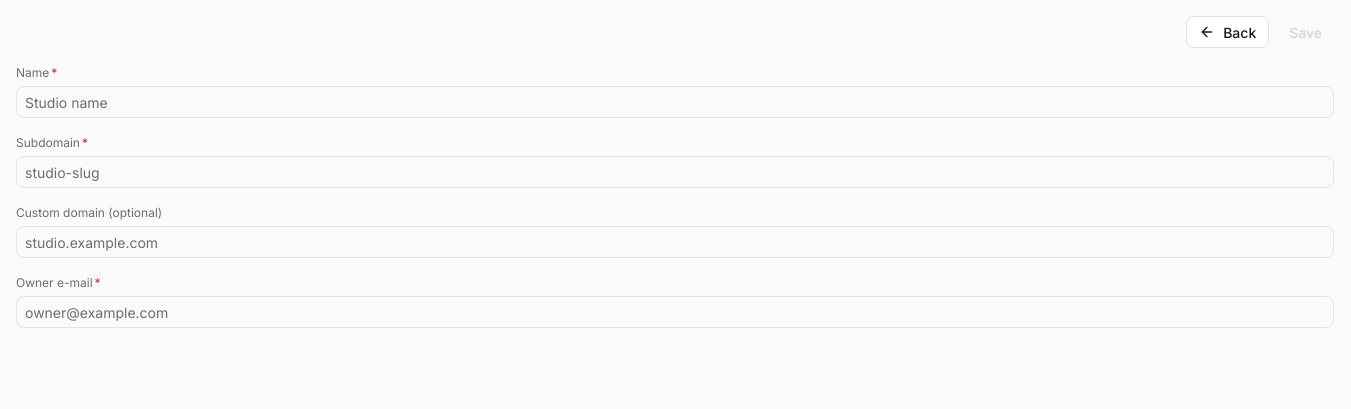
Test: StudioForm: new studio › does not save and shows the texts when the formats are wrong
The width and height of the screenshot is (1351, 409).
Type "Y" into the field labelled "Name*". click: (675, 102)
box: top-left (16, 86), bottom-right (1334, 118)
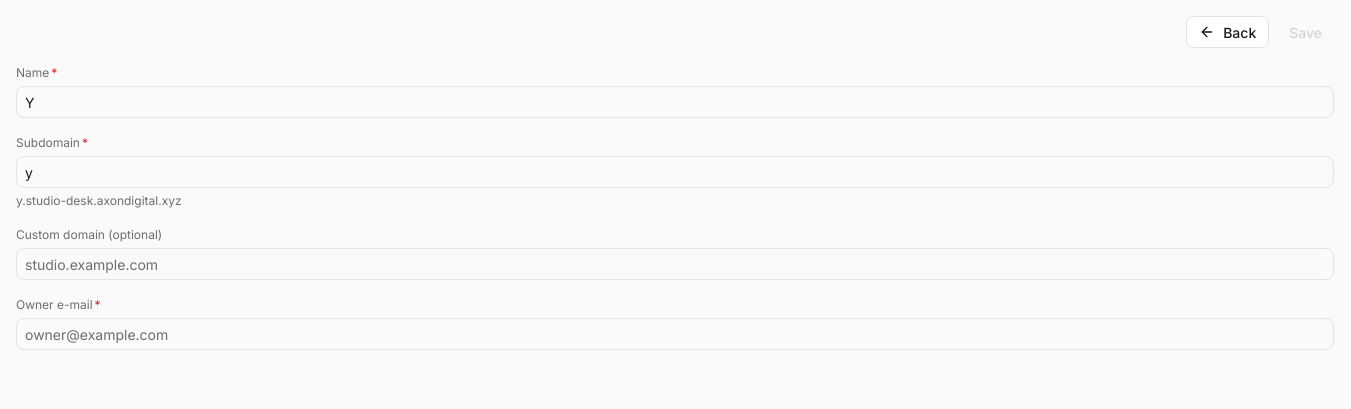
Type "nope" into the field labelled "Owner e-mail*". click: (675, 334)
box: top-left (16, 318), bottom-right (1334, 350)
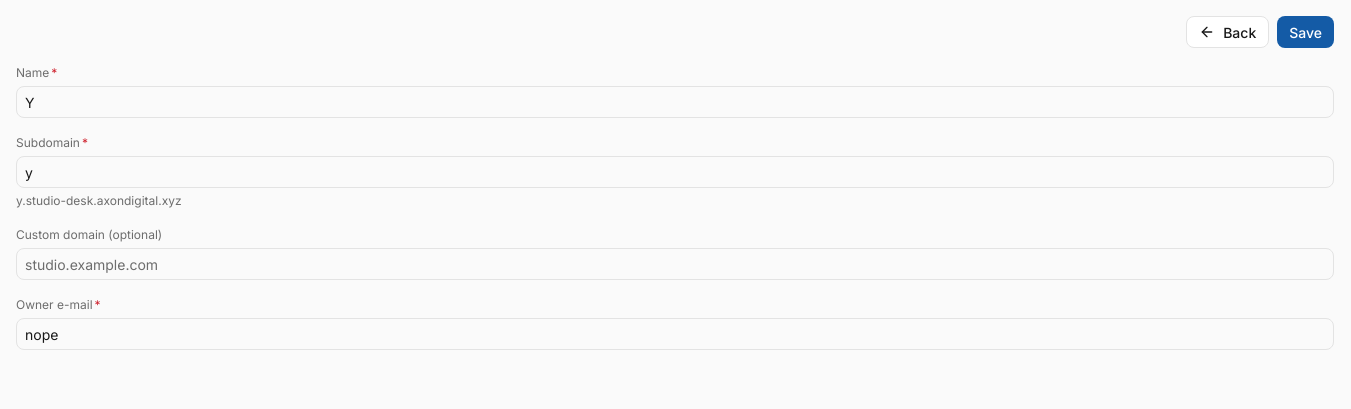
Click the button "Save". click: (1306, 32)
box: top-left (1277, 16), bottom-right (1334, 48)
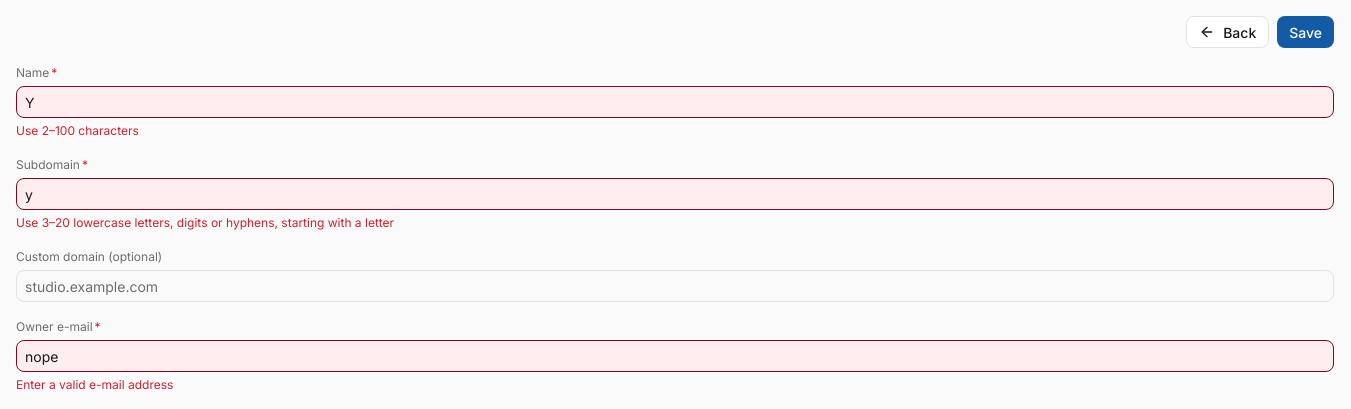
Check: the text "Use 2–100 characters" is shown, box top-left (16, 123), bottom-right (139, 138)
Check: the text "Use 3–20 lowercase letters, digits or hyphens, starting with a letter" is shown, box top-left (16, 215), bottom-right (394, 230)
Check: the text "Enter a valid e-mail address" is shown, box top-left (16, 377), bottom-right (174, 392)
